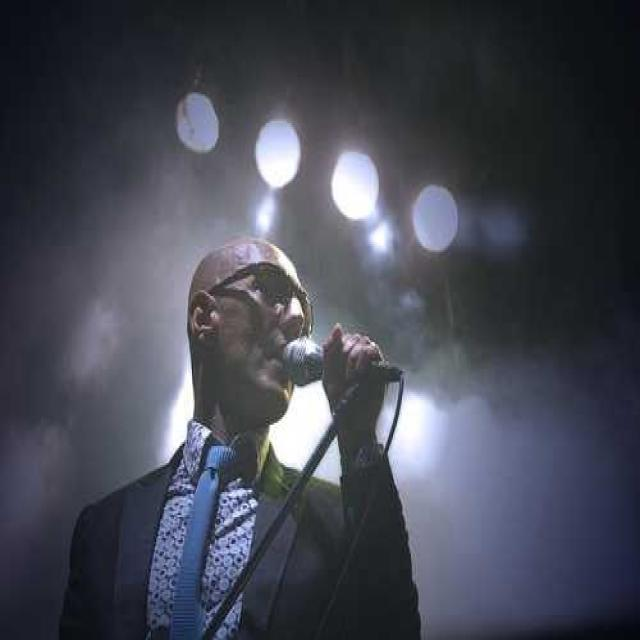microphone: (284, 325, 402, 386)
